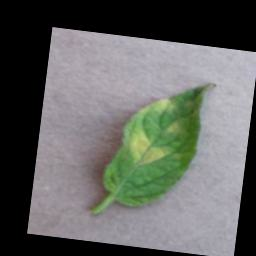Leaf_Mold: (124, 128, 171, 168), (139, 92, 177, 117), (166, 119, 180, 135)
